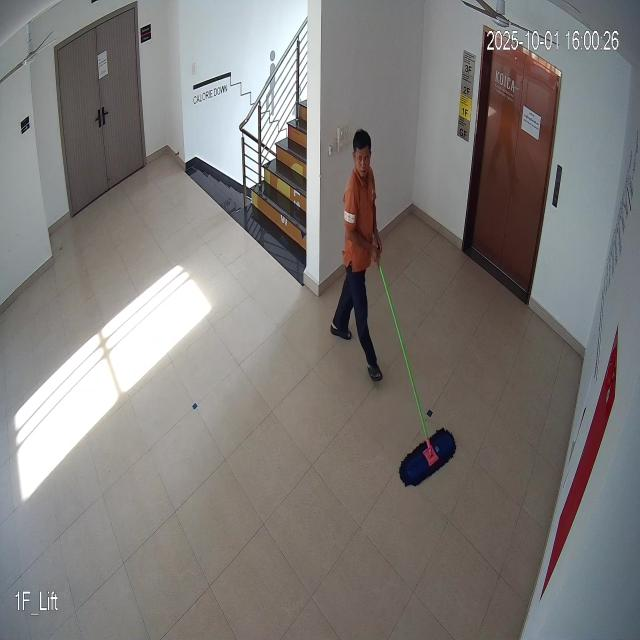face: (351, 122, 373, 183)
